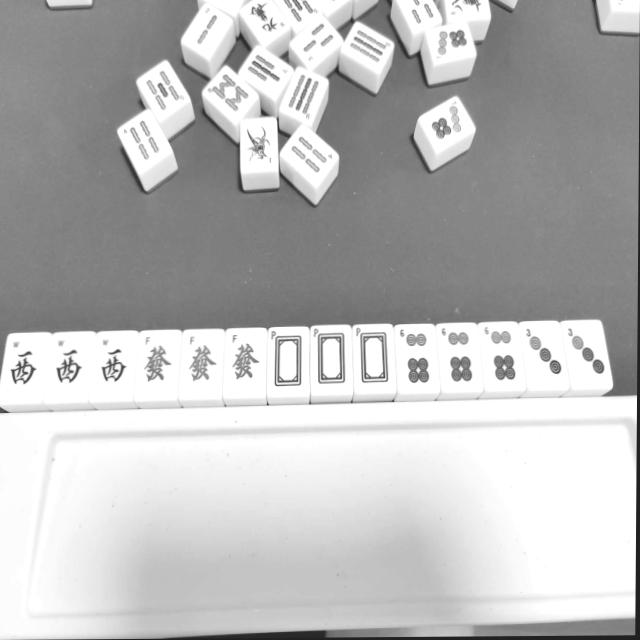bai: (354, 324, 393, 390), (268, 329, 307, 395), (312, 328, 350, 390)
fa: (138, 333, 176, 394), (226, 332, 264, 387), (184, 335, 218, 391)
t3: (566, 323, 606, 380), (524, 326, 562, 379)
t6: (397, 325, 438, 390), (441, 324, 479, 387), (483, 325, 519, 385)
west: (8, 337, 40, 397), (54, 335, 85, 395), (97, 337, 131, 391)
